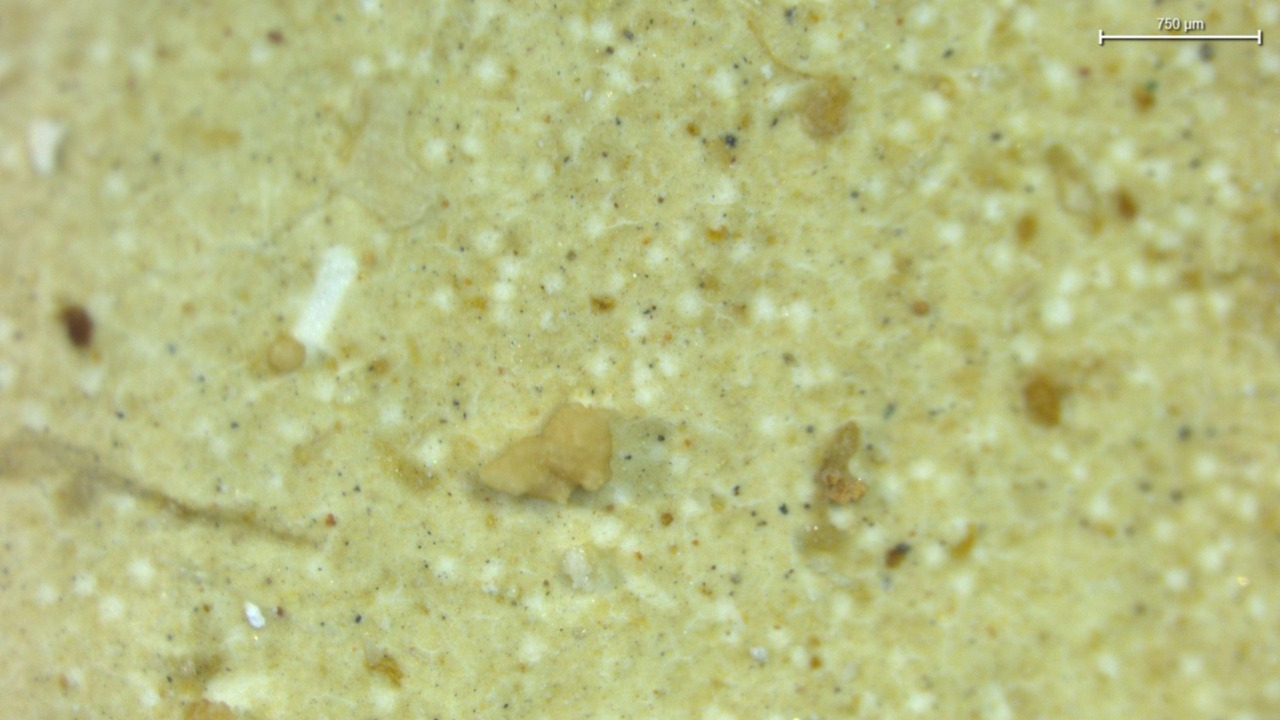microplastic_fragment: (476, 403, 613, 506)
